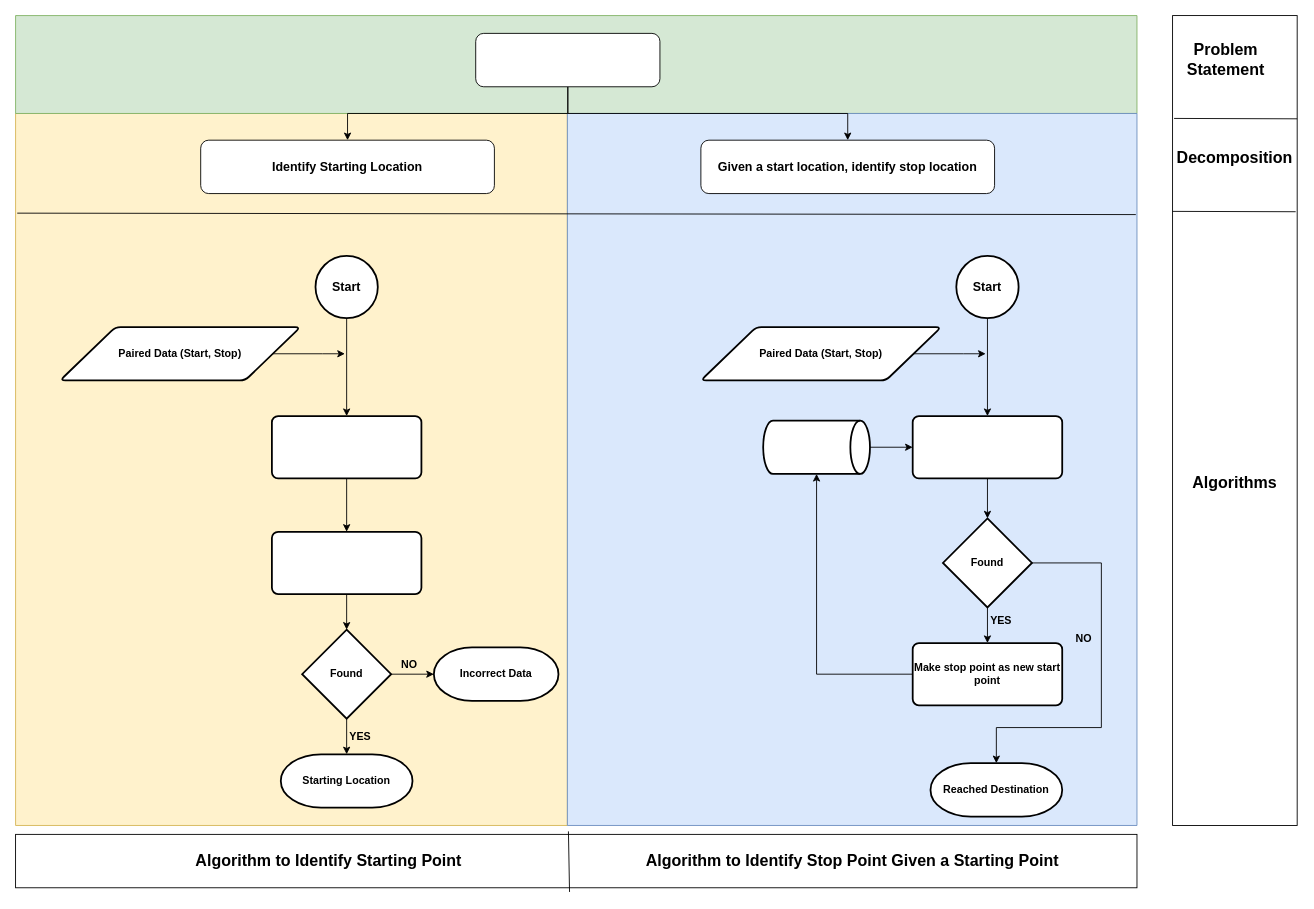
Image size: 1314x909. Some labels were removed from this diagram. The shapes that lost their labels are listed below. From the top down, each one's centre as x and y in pixels, then its label:
At (x=567, y=59): "Identify Travel Sequence".
At (x=346, y=447): "Extract start list Extract stop list".
At (x=816, y=446): "Start Point".
At (x=987, y=447): "Identify the stop point for the given start point".
At (x=346, y=562): "Identify element in start list not present in stop list".
